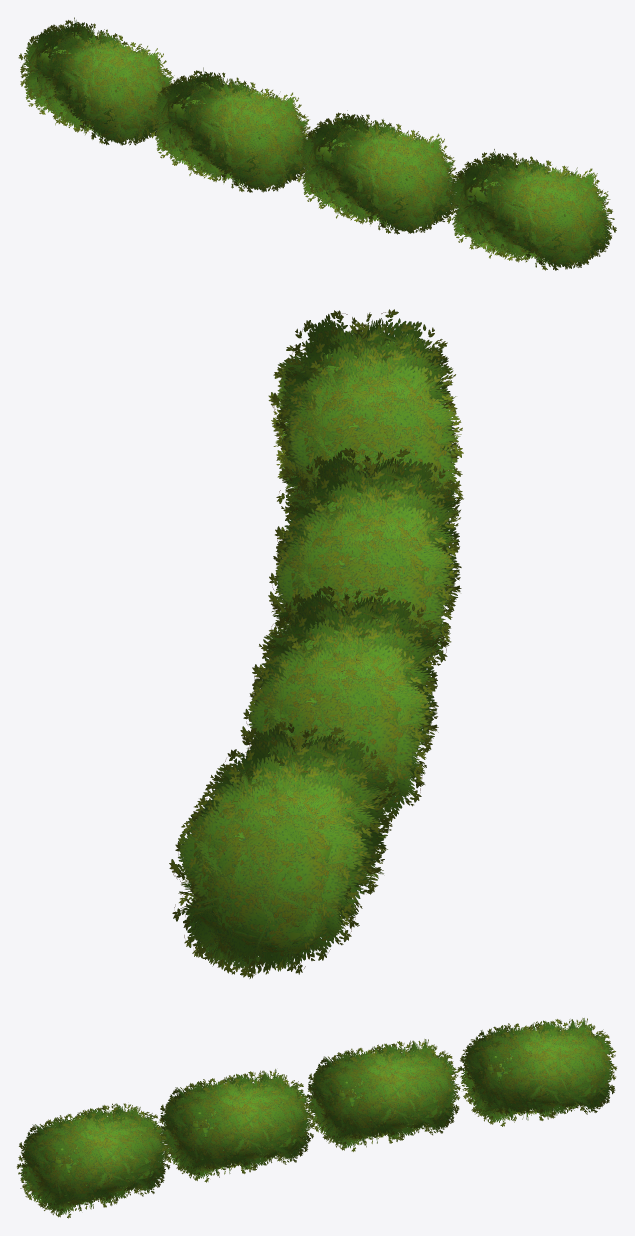
The model's file is SM_Bush06_Splines_7.fbx.
3 renders of one model, top to bottom at view 1: azimuth 30°, elevation 25°; view 2: azimuth 150°, elevation 25°; view 3: azimuth 270°, elevation 25°, orthographic. The views are drawn at different scales.
Parts seen in each view (by area): view 1: SM_Bush06_Splines_7_LOD0; view 2: SM_Bush06_Splines_7_LOD0; view 3: SM_Bush06_Splines_7_LOD0.
Part boxes in pixels (left/top/right/bottom): SM_Bush06_Splines_7_LOD0: left=18, top=17, right=616, bottom=270; SM_Bush06_Splines_7_LOD0: left=169, top=309, right=463, bottom=978; SM_Bush06_Splines_7_LOD0: left=17, top=1018, right=616, bottom=1218.
Size of the model in its own units: 544 by 973 by 166.
